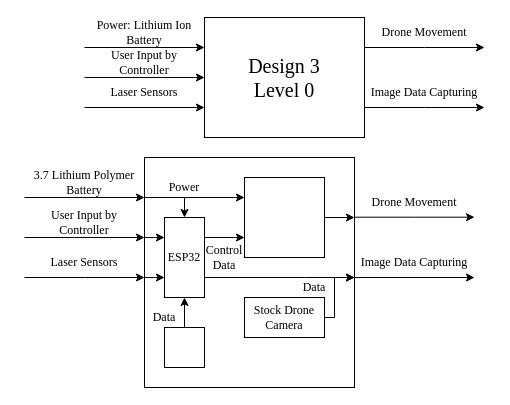
Image size: 510x405. Some labels were removed from this diagram. The shapes that lost their labels are listed below. From the top down, each one's centre as x and y in pixels, then its label:
At pixel 284 217: "Stock Drone Control and Motors".
At pixel 184 347: "ESP Camera".
